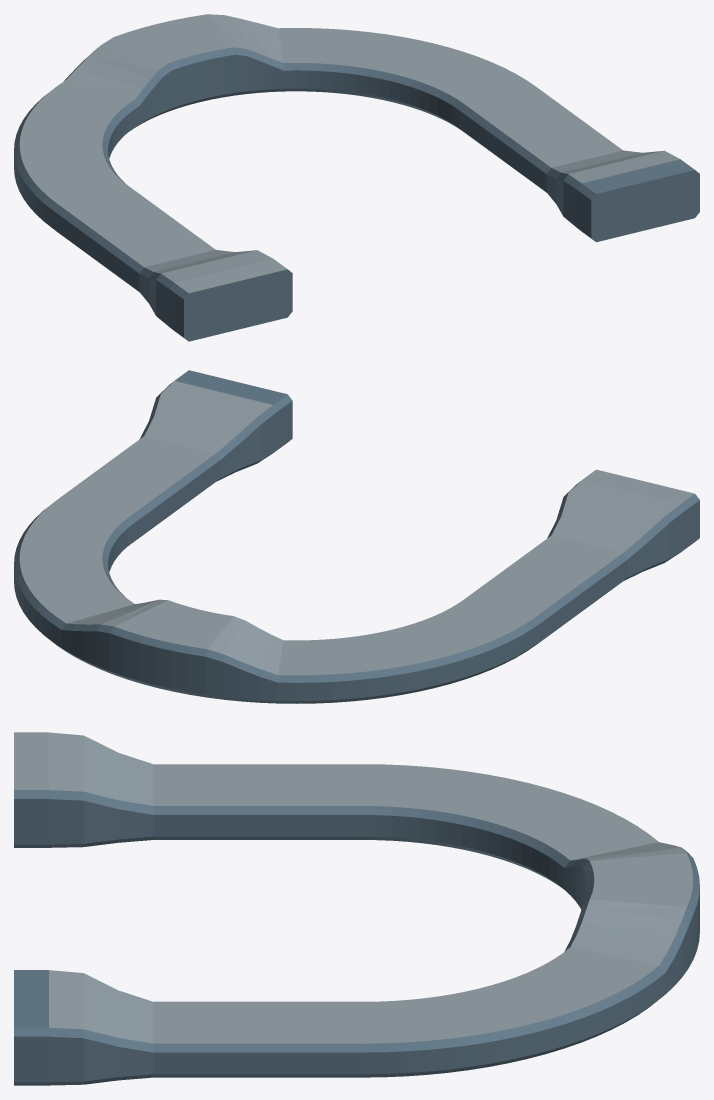
The picture shows the model from 3 angles, top to bottom: view 1: azimuth 30°, elevation 25°; view 2: azimuth 150°, elevation 25°; view 3: azimuth 270°, elevation 25°; orthographic projection. The views are drawn at different scales.
Visible parts, largest first — view 1: WholeOpenUWithIntegralRaisedToeAndHeelCalks; view 2: WholeOpenUWithIntegralRaisedToeAndHeelCalks; view 3: WholeOpenUWithIntegralRaisedToeAndHeelCalks.
Part boxes in pixels (x1,y1,x2,y2): WholeOpenUWithIntegralRaisedToeAndHeelCalks: (14, 14, 699, 341); WholeOpenUWithIntegralRaisedToeAndHeelCalks: (14, 370, 699, 703); WholeOpenUWithIntegralRaisedToeAndHeelCalks: (14, 732, 699, 1085).
Size of the model in its own units: 0.19 by 0.017 by 0.183.
